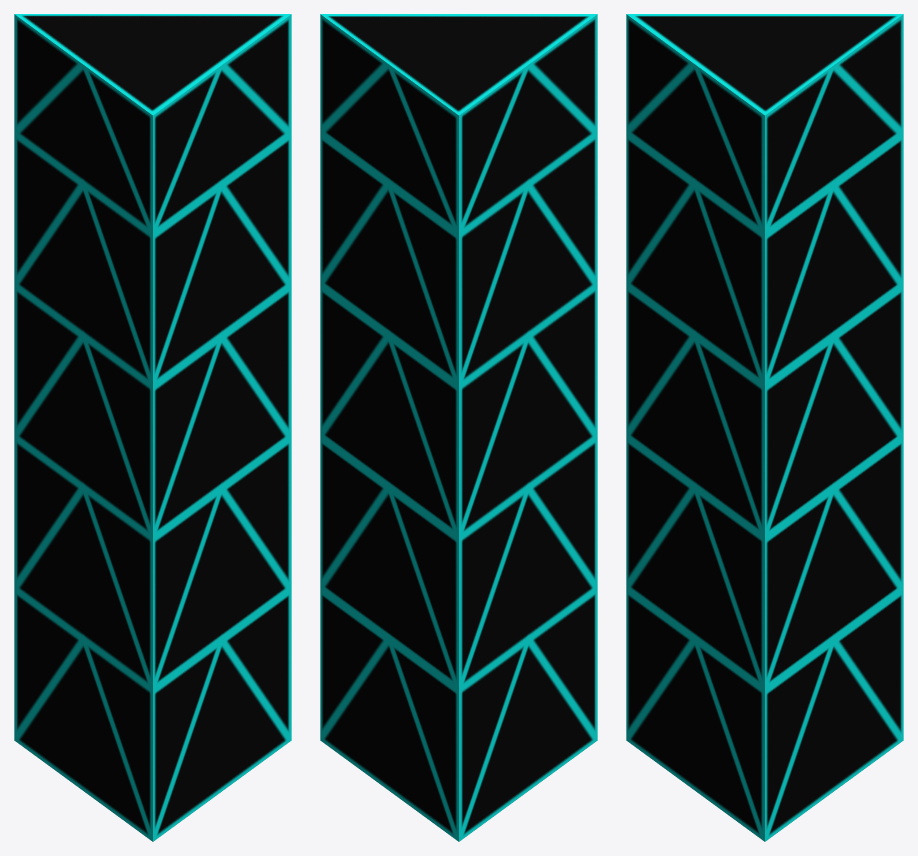
Rendered from SM_City04.fbx.
3 views of the same model, side by side, from view 1: azimuth 30°, elevation 25°; view 2: azimuth 150°, elevation 25°; view 3: azimuth 270°, elevation 25° (orthographic).
Visible parts, largest first — view 1: SM_City04; view 2: SM_City04; view 3: SM_City04.
Part boxes in pixels (x1,y1,x2,y2): SM_City04: [14, 14, 291, 841]; SM_City04: [320, 14, 597, 841]; SM_City04: [626, 14, 903, 841].
Size of the model in its own units: 450 by 1500 by 520.
1 material, 1 textured.
